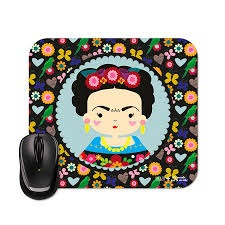mouse: (15, 132, 65, 198)
